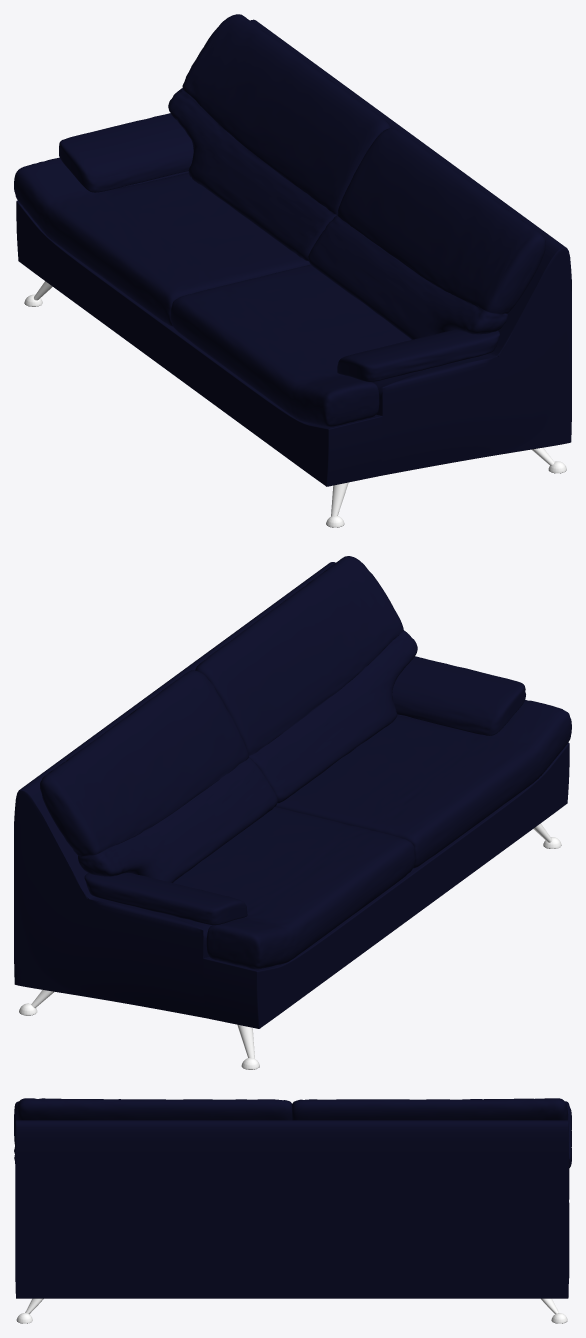
The model's file is koltuk_4.glb.
3 renders of one model, top to bottom at view 1: azimuth 30°, elevation 25°; view 2: azimuth 150°, elevation 25°; view 3: azimuth 270°, elevation 25°, orthographic. The views are drawn at different scales.
Parts seen in each view (by area): view 1: sofa; view 2: sofa; view 3: sofa.
Boxes of the visible parts, x1,y1,x2,y2 form: sofa: (14,14,571,527); sofa: (14,556,571,1069); sofa: (14,1098,571,1323).
Bounding box in the file's own units: 0.9124 × 0.8487 × 2.01.
